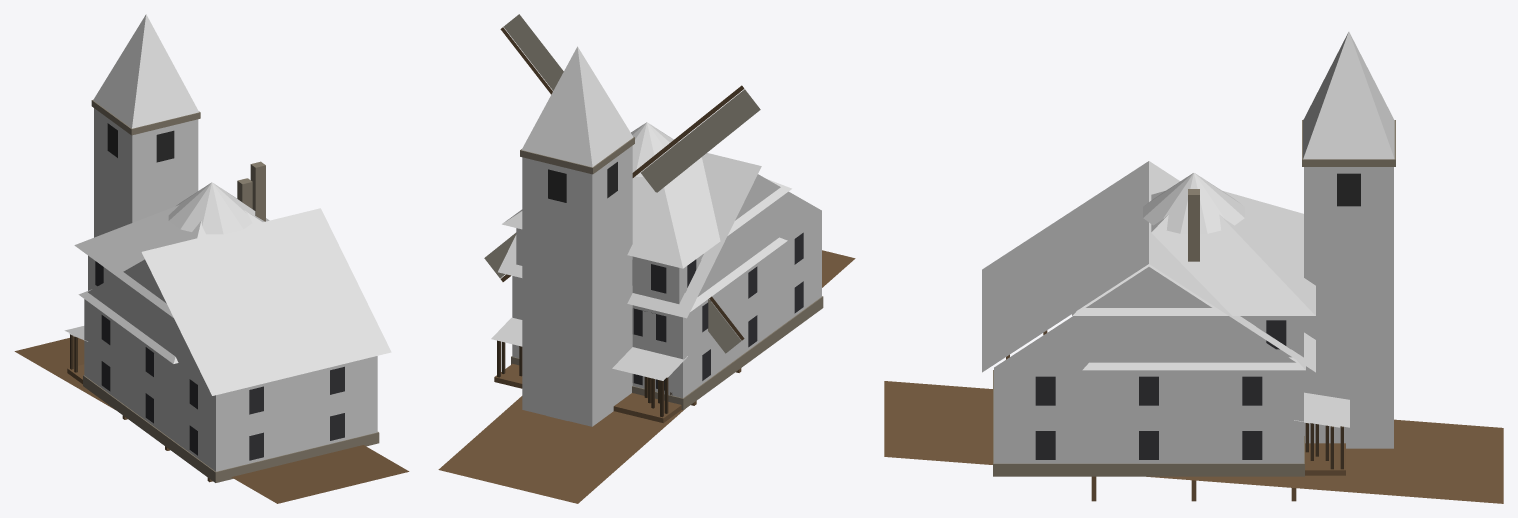
The model's file is tropical.glb.
3 renders of one model, left to right at view 1: azimuth 30°, elevation 25°; view 2: azimuth 150°, elevation 25°; view 3: azimuth 270°, elevation 25°, orthographic. The views are drawn at different scales.
Parts seen in each view (by area): view 1: church, shipyard-slip, merchants-house, windmill, warehouse; view 2: church, merchants-house, shipyard-slip, windmill, warehouse, tavern; view 3: church, shipyard-slip, merchants-house, windmill, warehouse.
Part boxes in pixels (bbox=[...]): church: bbox=[83, 14, 391, 482]; shipyard-slip: bbox=[14, 337, 409, 503]; merchants-house: bbox=[64, 161, 269, 383]; windmill: bbox=[168, 182, 255, 234]; warehouse: bbox=[69, 289, 178, 384]; church: bbox=[498, 46, 823, 426]; merchants-house: bbox=[491, 157, 791, 423]; shipyard-slip: bbox=[438, 250, 855, 503]; windmill: bbox=[484, 14, 760, 353]; warehouse: bbox=[501, 237, 787, 419]; tavern: bbox=[517, 346, 664, 409]; church: bbox=[982, 31, 1395, 476]; shipyard-slip: bbox=[884, 330, 1503, 503]; merchants-house: bbox=[1072, 189, 1349, 475]; windmill: bbox=[1143, 173, 1244, 233]; warehouse: bbox=[1082, 357, 1339, 475].
Bounding box in the file's own units: 17.82 × 24.5 × 31.
